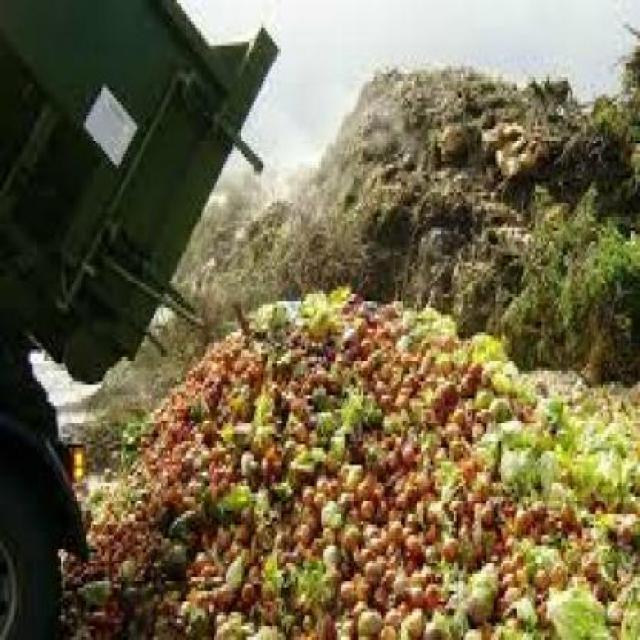garbage: (77, 399, 638, 634), (229, 123, 510, 312), (160, 302, 548, 404), (345, 56, 599, 126)
